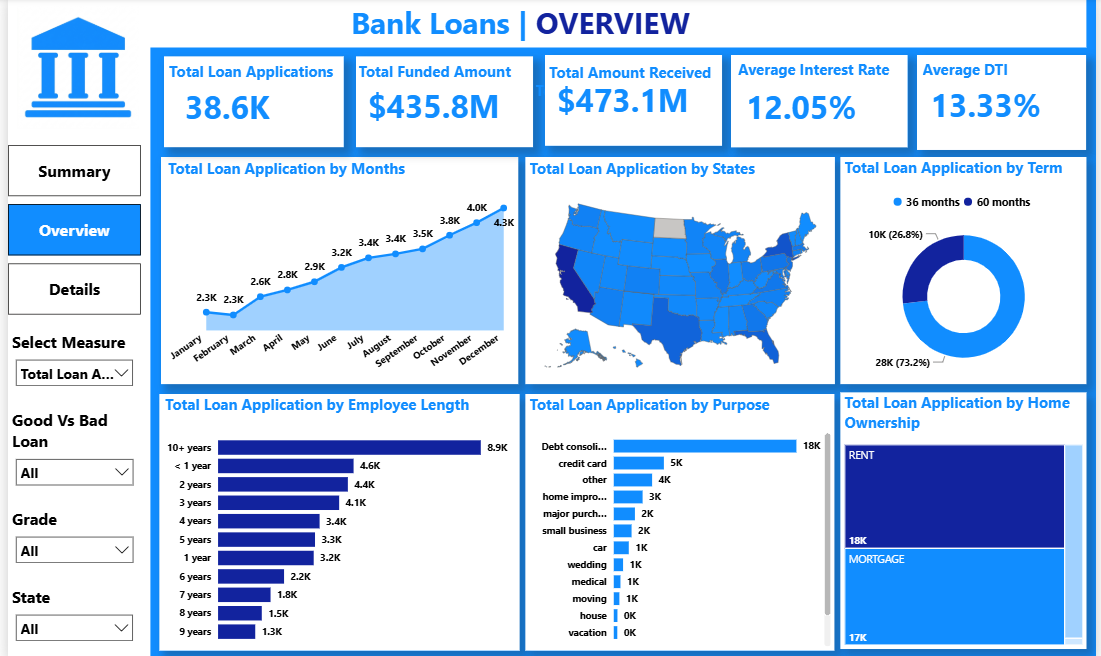

What the dashboard file says about the page in this screenshot:
{"tool":"powerbi","page":{"name":"Overview","canvas":[1360,830],"ordinal":1},"visuals":[{"type":"shape","box":[0,0,1348.2,61.9],"z":0},{"type":"shape","box":[670.4,70.5,221.2,113.3],"z":0,"group":"g4"},{"type":"shape","box":[903.6,70.5,220.5,115.7],"z":0,"group":"g5"},{"type":"shape","box":[1136.8,70.5,211.5,118.7],"z":0,"group":"g6"},{"type":"shape","box":[196,72.3,224.4,113.3],"z":0,"group":"g1"},{"type":"shape","box":[434.9,72.3,221.2,113.3],"z":0,"group":"g2"},{"type":"cardVisual","fields":{"Data":["All measures.Total recevied"]},"box":[668.7,95.3,203.3,59],"z":1000,"group":"g4"},{"type":"cardVisual","fields":{"Data":["All measures.avg dti"]},"box":[1137.3,101.4,198.7,61.8],"z":1000,"group":"g6"},{"type":"cardVisual","fields":{"Data":["All measures.avg interest rate"]},"box":[905.2,102.2,198.7,61.8],"z":1000,"group":"g5"},{"type":"cardVisual","fields":{"Data":["All measures.Total Loan Application"]},"box":[204.2,102.4,158.4,60.5],"z":1000,"group":"g1"},{"type":"cardVisual","fields":{"Data":["All measures.Total Funded Amount"]},"box":[434.5,102.4,203.3,59],"z":1000,"group":"g2"},{"type":"cardVisual","fields":{"Data":["All measures.Total recevied"]},"box":[654.1,129.2,172.4,61.8],"z":1000,"group":"g3"},{"type":"shape","box":[191.6,198.8,446.4,283.7],"z":1000},{"type":"shape","box":[0,0,178.1,830.6],"z":2000},{"type":"textbox","box":[1138.7,70.5,203.5,60.2],"z":2000,"group":"g6"},{"type":"textbox","box":[906.6,71.3,203.5,60.2],"z":2000,"group":"g5"},{"type":"textbox","box":[191.6,72.9,226.1,46.5],"z":2000,"group":"g1"},{"type":"textbox","box":[433.7,72.9,213.1,57.4],"z":2000,"group":"g2"},{"type":"textbox","box":[670.7,73.4,221.2,45],"z":2000,"group":"g4"},{"type":"textbox","box":[653.9,97.6,221.2,60.2],"z":2000,"group":"g3"},{"type":"group","id":"g1","title":"Group 1","box":[191.6,72.3,229.5,112.1],"z":3000},{"type":"group","id":"g2","title":"Group 1","box":[433.7,72.3,220.5,112.1],"z":4000},{"type":"group","id":"g3","title":"Group 1","box":[653.9,97.6,221.2,93.4],"z":5000},{"type":"group","id":"g4","title":"Group 1","box":[668.7,70.5,224.1,113.9],"z":6000},{"type":"group","id":"g5","title":"Group 1","box":[903.6,70.5,220.5,115.7],"z":7000},{"type":"group","id":"g6","title":"Group 1","box":[1136.8,70.5,211.5,117.5],"z":8000},{"type":"textbox","box":[419.6,0,440.8,61.8],"z":9000},{"type":"shape","box":[647,198.8,386.8,283.7],"z":10000},{"type":"shape","box":[189.4,495,450,320.6],"z":11000},{"type":"slicer","title":"State","fields":{"Values":["Cleaned_Bank_Loan_Data.address_state"]},"box":[0,735,166.3,79.5],"z":12000},{"type":"slicer","title":"Grade","fields":{"Values":["Cleaned_Bank_Loan_Data.grade"]},"box":[0,637.5,166.9,78.8],"z":13000},{"type":"slicer","title":"Good Vs Bad Loan","fields":{"Values":["Cleaned_Bank_Loan_Data.Good loan vs  Bad loan"]},"box":[0,513.8,166.9,106.9],"z":14000},{"type":"slicer","title":"Select Measure","fields":{"Values":["Select Measure .Select Measure "]},"box":[0,416.3,166.3,83.1],"z":15000},{"type":"areaChart","fields":{"Y":["All measures.Total Loan Application"],"Category":["Cleaned_Bank_Loan_Data.issue_month"]},"box":[195.2,200.6,442.8,281.9],"z":16000},{"type":"shapeMap","fields":{"Value":["All measures.Total Loan Application"],"Category":["Cleaned_Bank_Loan_Data.address_state"]},"box":[647,200.6,386.8,281.9],"z":17000},{"type":"shape","box":[1041,198.8,307.2,283.7],"z":18000},{"type":"donutChart","fields":{"Y":["All measures.Total Loan Application"],"Category":["Cleaned_Bank_Loan_Data.term"]},"box":[1041,198.8,307.2,283.7],"z":19000},{"type":"clusteredBarChart","fields":{"Y":["All measures.Total Loan Application"],"Category":["Cleaned_Bank_Loan_Data.emp_length"]},"box":[191.3,495,446.3,320.6],"z":20000},{"type":"shape","box":[646.9,495,386.3,320.6],"z":21000},{"type":"barChart","fields":{"Y":["All measures.Total Loan Application"],"Category":["Cleaned_Bank_Loan_Data.purpose"]},"box":[646.9,495,386.3,320.6],"z":22000},{"type":"shape","box":[1040.6,493.1,307.5,320.6],"z":23000},{"type":"treemap","fields":{"Values":["All measures.Total Loan Application"],"Group":["Cleaned_Bank_Loan_Data.home_ownership"]},"box":[1040.6,493.1,307.5,320.6],"z":24000},{"type":"pageNavigator","box":[0,183.8,166.3,213.3],"z":24001},{"type":"image","box":[12,6.9,152.8,158],"z":24002}]}

Visuals, with their boxes in screenshot pixels (x1, y1, x2, y2), scaled from the page's 1360x830 canvas onto the 1101x656 screenshot:
shape: crop(0, 0, 1091, 49)
shape: crop(543, 56, 722, 145)
shape: crop(732, 56, 910, 147)
shape: crop(920, 56, 1092, 150)
shape: crop(159, 57, 340, 147)
shape: crop(352, 57, 531, 147)
cardVisual - All measures.Total recevied: crop(541, 75, 706, 122)
cardVisual - All measures.avg dti: crop(921, 80, 1082, 129)
cardVisual - All measures.avg interest rate: crop(733, 81, 894, 130)
cardVisual - All measures.Total Loan Application: crop(165, 81, 294, 129)
cardVisual - All measures.Total Funded Amount: crop(352, 81, 516, 128)
cardVisual - All measures.Total recevied: crop(530, 102, 669, 151)
shape: crop(155, 157, 516, 381)
shape: crop(0, 0, 144, 655)
textbox: crop(922, 56, 1087, 103)
textbox: crop(734, 56, 899, 104)
textbox: crop(155, 58, 338, 94)
textbox: crop(351, 58, 524, 103)
textbox: crop(543, 58, 722, 94)
textbox: crop(529, 77, 708, 125)
"Group 1" group: crop(155, 57, 341, 146)
"Group 1" group: crop(351, 57, 530, 146)
"Group 1" group: crop(529, 77, 708, 151)
"Group 1" group: crop(541, 56, 723, 146)
"Group 1" group: crop(732, 56, 910, 147)
"Group 1" group: crop(920, 56, 1092, 149)
textbox: crop(340, 0, 697, 49)
shape: crop(524, 157, 837, 381)
shape: crop(153, 391, 518, 645)
"State" slicer: crop(0, 581, 135, 644)
"Grade" slicer: crop(0, 504, 135, 566)
"Good Vs Bad Loan" slicer: crop(0, 406, 135, 491)
"Select Measure" slicer: crop(0, 329, 135, 395)
areaChart - All measures.Total Loan Application x Cleaned_Bank_Loan_Data.issue_month: crop(158, 159, 516, 381)
shapeMap - All measures.Total Loan Application x Cleaned_Bank_Loan_Data.address_state: crop(524, 159, 837, 381)
shape: crop(843, 157, 1091, 381)
donutChart - All measures.Total Loan Application x Cleaned_Bank_Loan_Data.term: crop(843, 157, 1091, 381)
clusteredBarChart - All measures.Total Loan Application x Cleaned_Bank_Loan_Data.emp_length: crop(155, 391, 516, 645)
shape: crop(524, 391, 836, 645)
barChart - All measures.Total Loan Application x Cleaned_Bank_Loan_Data.purpose: crop(524, 391, 836, 645)
shape: crop(842, 390, 1091, 643)
treemap - All measures.Total Loan Application x Cleaned_Bank_Loan_Data.home_ownership: crop(842, 390, 1091, 643)
pageNavigator: crop(0, 145, 135, 314)
image: crop(10, 5, 133, 130)
